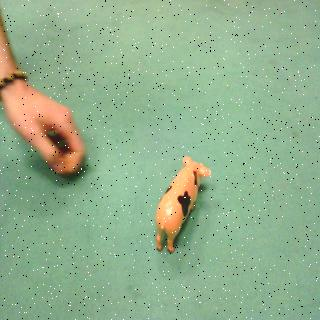pig: (154, 154, 214, 260)
